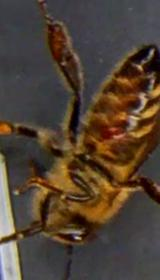varroa_mite: (96, 120, 126, 141)
